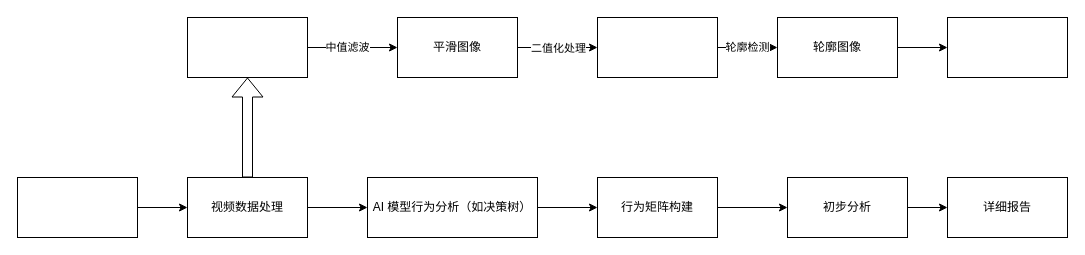
This 1085x255 diagram has some shape labels left out. The shapes that lost their labels are listed below. From the top down, each one's centre as x and y in pixels, then its label:
At (247,47): "原始图像".
At (657,47): "二值化图像".
At (1007,47): "帧间差分图像".
At (77,207): "多方位视角摄像机".
